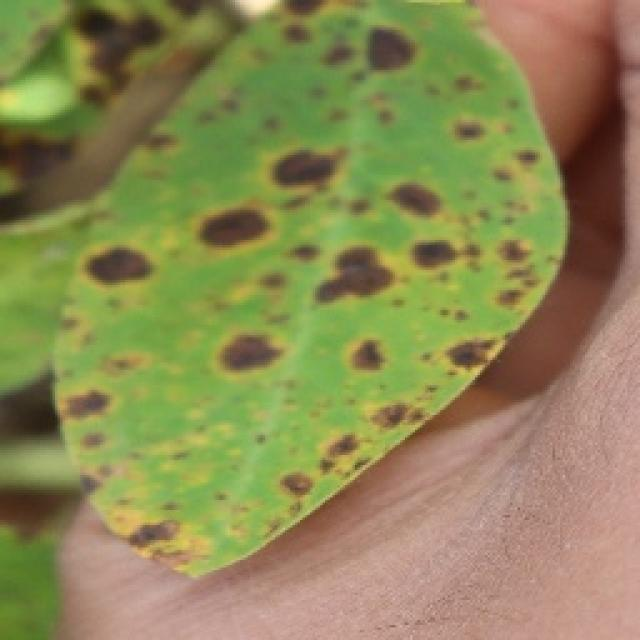Yellowish: (8, 0, 572, 588)
